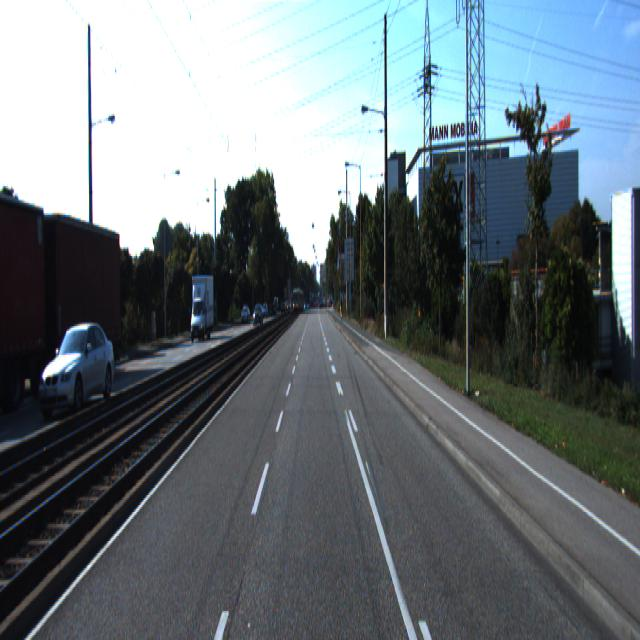Car: (24, 209, 124, 397), (0, 192, 52, 424), (38, 319, 119, 420), (187, 273, 215, 343)
